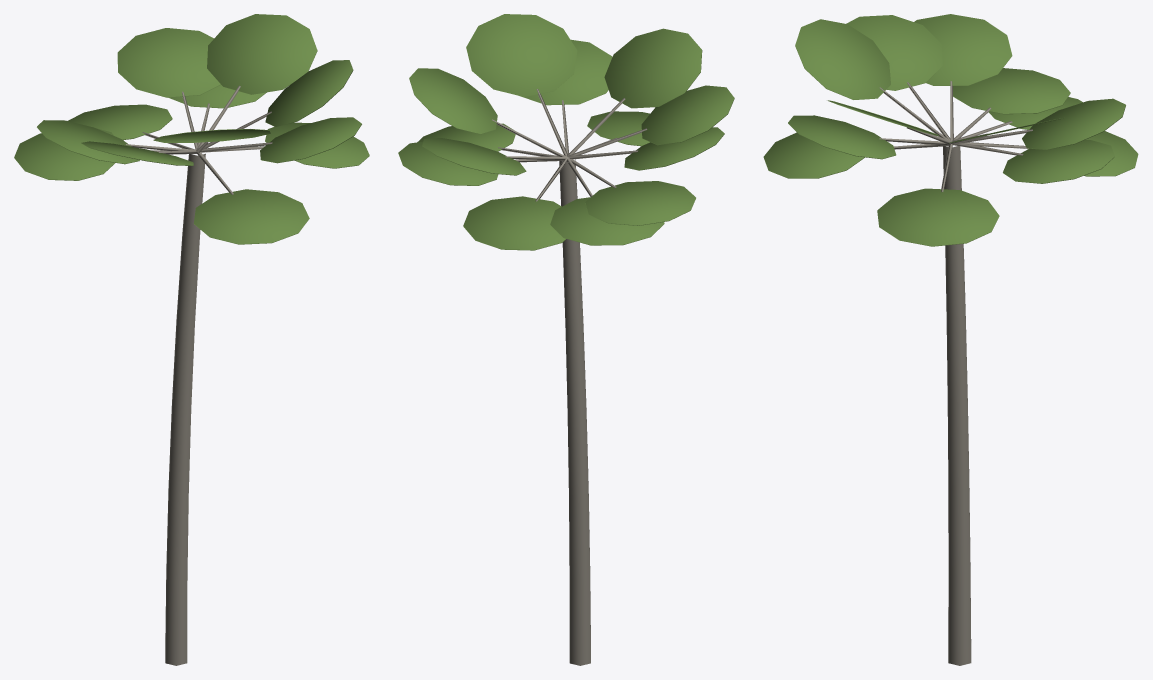
Rendered from latanier.glb.
3 renders of one model, left to right at view 1: azimuth 30°, elevation 25°; view 2: azimuth 150°, elevation 25°; view 3: azimuth 270°, elevation 25°, orthographic. The views are drawn at different scales.
Visible parts, largest first — view 1: latanier; view 2: latanier; view 3: latanier.
Boxes of the visible parts, x1,y1,x2,y2 form: latanier: [14, 14, 369, 665]; latanier: [398, 14, 734, 665]; latanier: [763, 14, 1138, 665].
Bounding box in the file's own units: 4.46 × 8.21 × 4.53.
